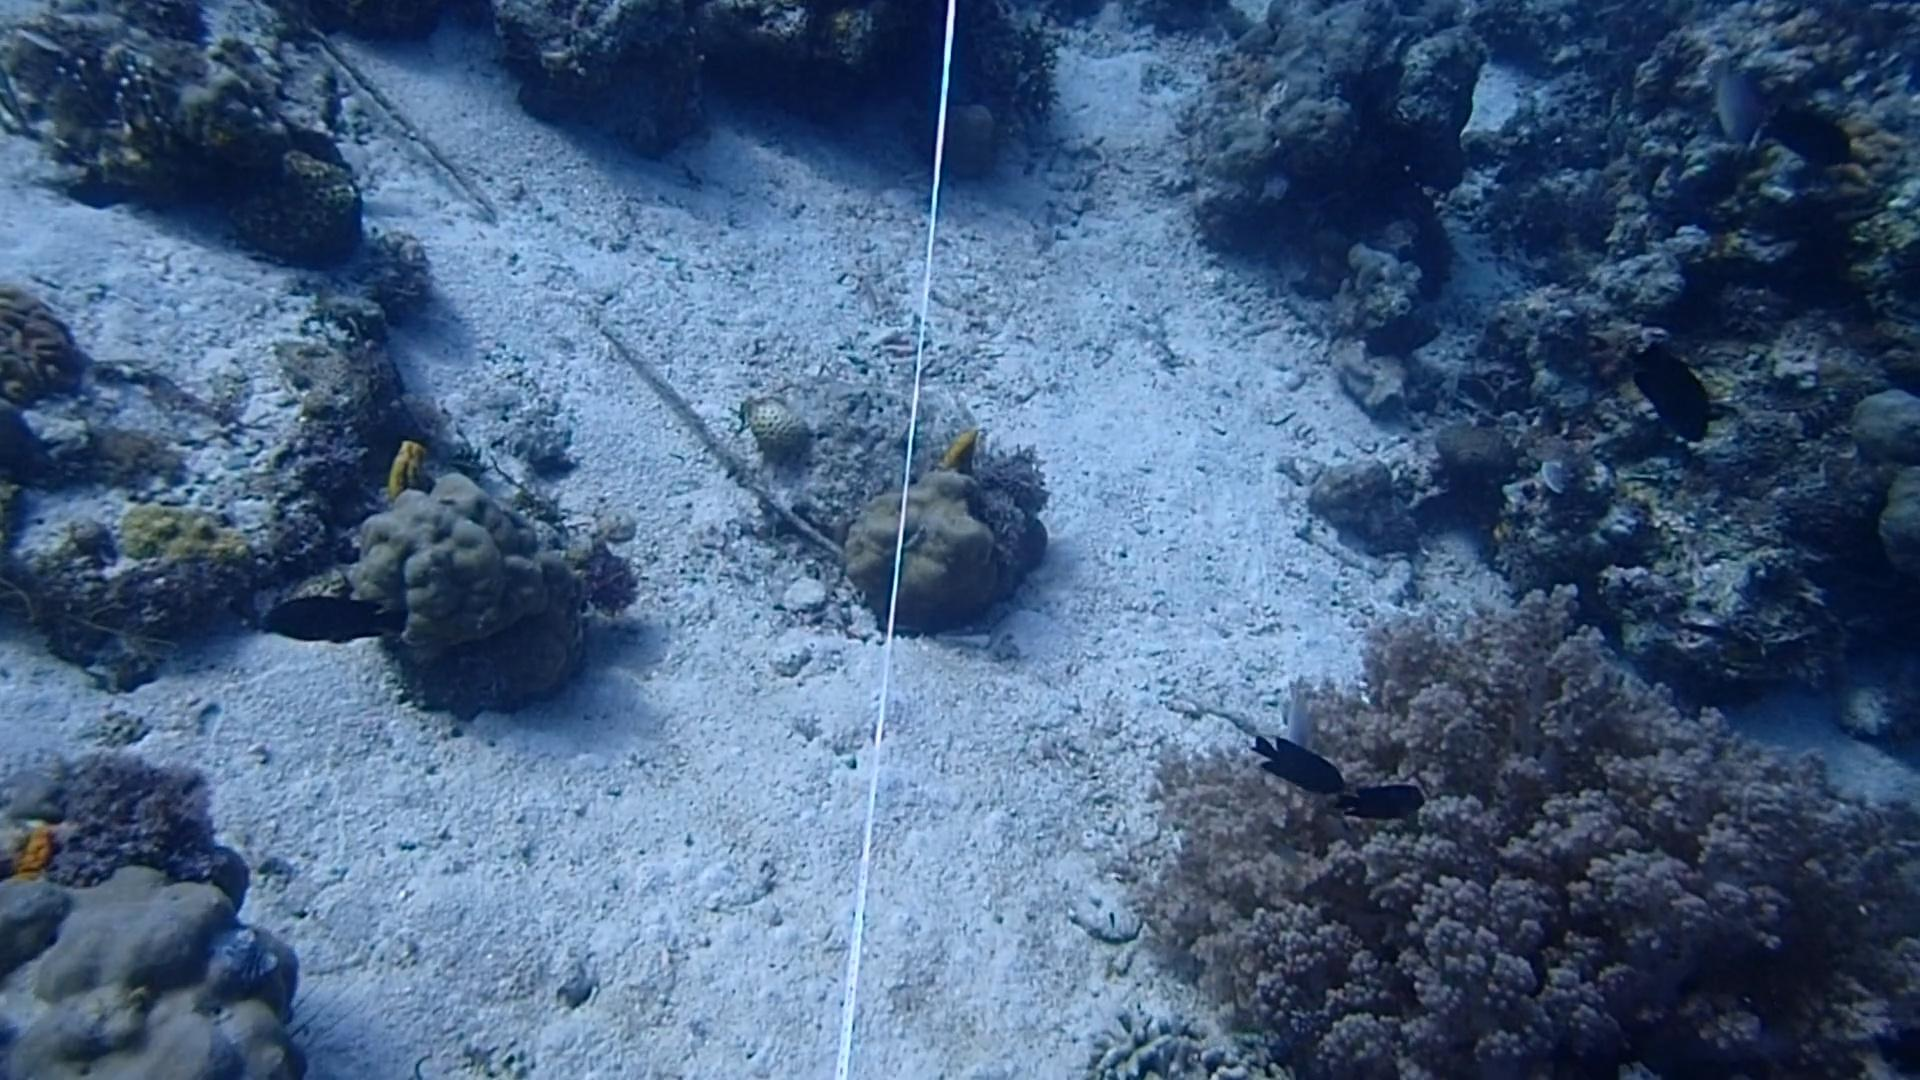Dark Fish: (1619, 327, 1724, 450), (241, 588, 410, 661), (1305, 757, 1432, 836), (1230, 731, 1352, 808), (1762, 90, 1867, 178)
Light Fish: (1692, 46, 1772, 146), (1265, 678, 1329, 773)
